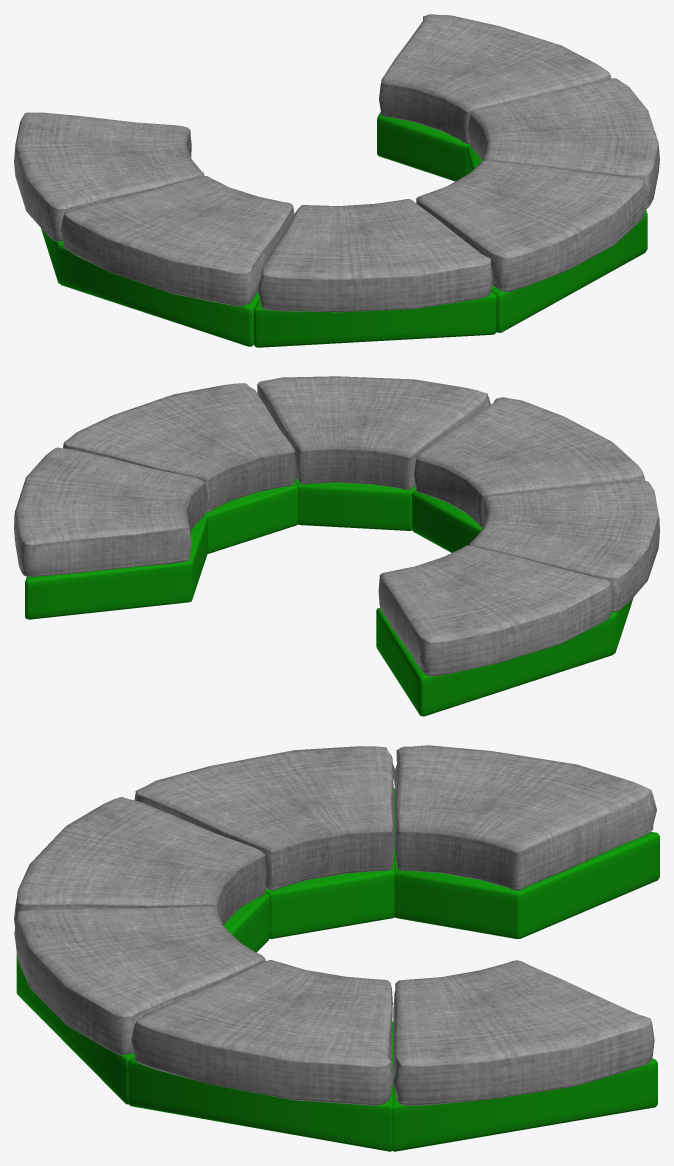
File: Sofa 8.FBX
The picture shows the model from 3 angles, top to bottom: view 1: azimuth 30°, elevation 25°; view 2: azimuth 150°, elevation 25°; view 3: azimuth 270°, elevation 25°; orthographic projection. The views are drawn at different scales.
Visible parts, largest first — view 1: Sofa 8; view 2: Sofa 8; view 3: Sofa 8.
Boxes of the visible parts, x1,y1,x2,y2 form: Sofa 8: (14,14,659,347); Sofa 8: (14,376,659,716); Sofa 8: (14,745,659,1151).
Bounding box in the file's own units: 3.46 × 2.94 × 0.4555.
